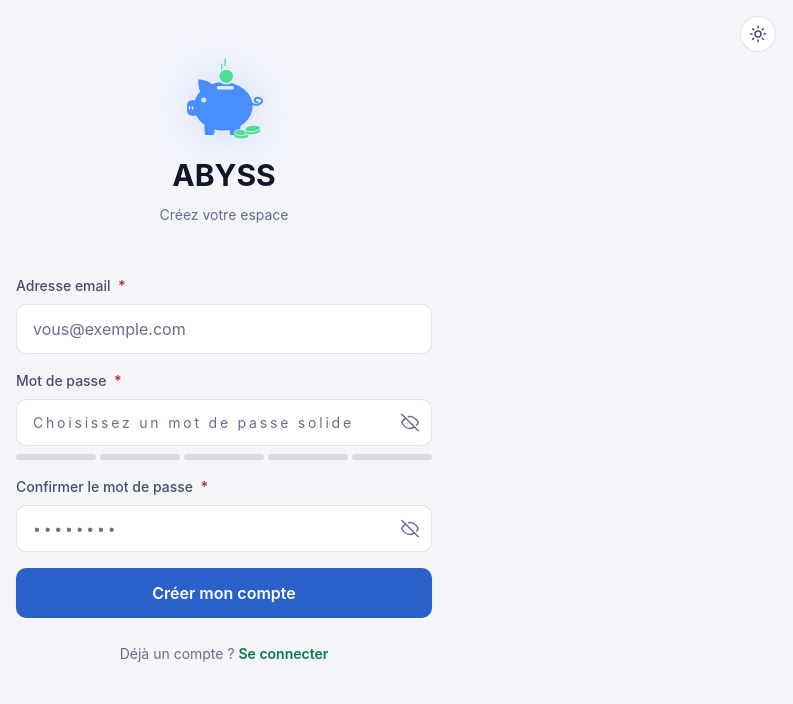
RegisterPage — échec › affiche l'erreur de l'API (email déjà pris) sans ouvrir de session
This screenshot has width=793, height=704.
Type "alice@example.com" into the field with id "register-email". click: coordinates (224, 329)
box: [16, 304, 432, 354]
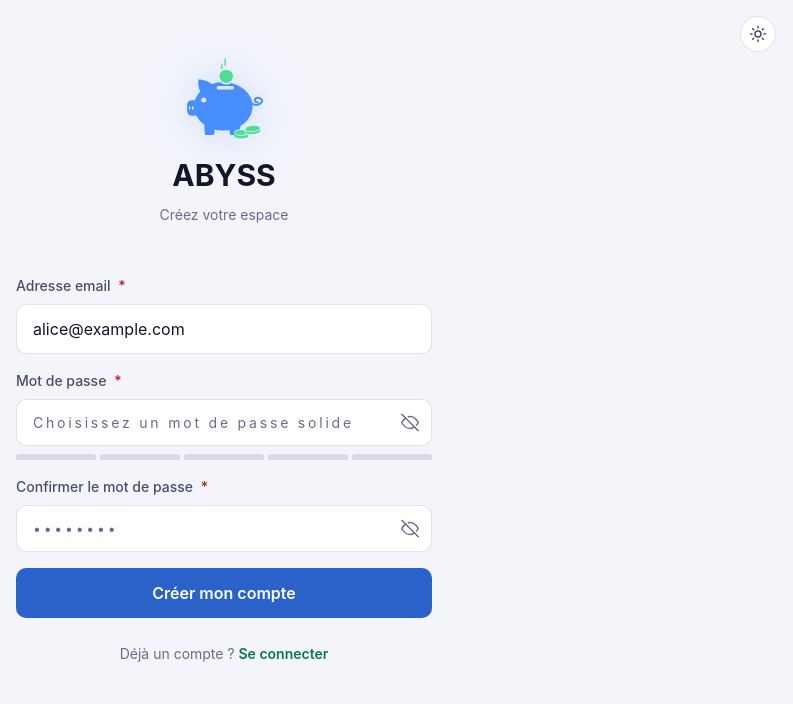
Type "Vélo-Bleu_4821" into the password field with id "register-password". click: coordinates (224, 423)
box: [16, 399, 432, 446]
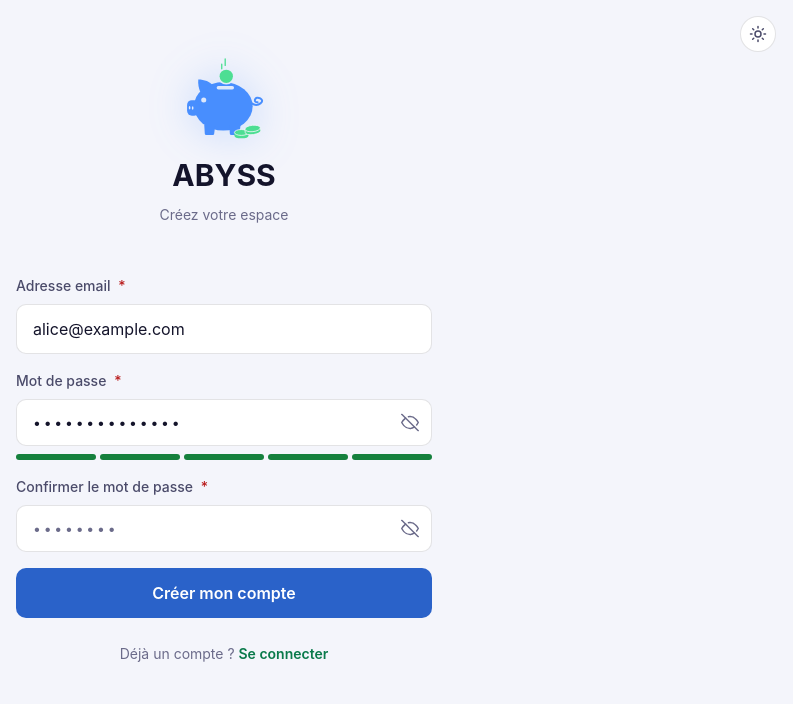
Type "Vélo-Bleu_4821" into the password field with id "register-confirm". click: coordinates (224, 529)
box: [16, 505, 432, 552]
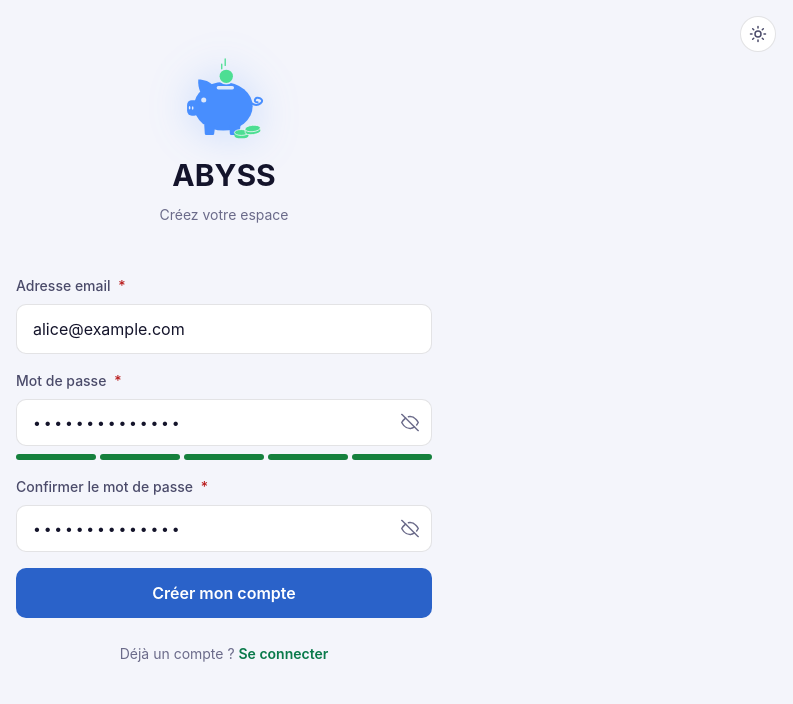
Submit the form, box [16, 275, 432, 618]
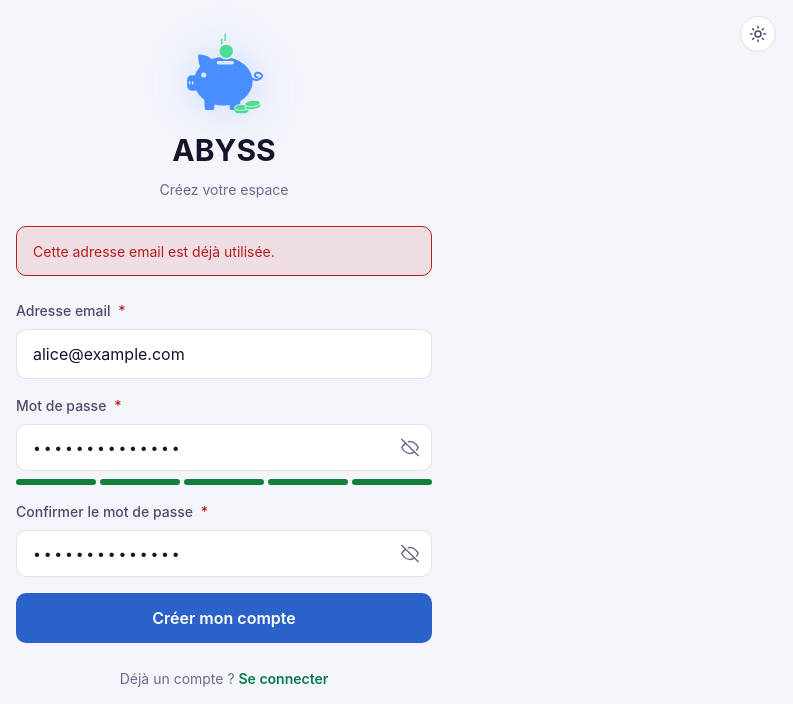
Now the message "Cette adresse email est déjà utilisée." is shown, box [16, 226, 432, 276]
